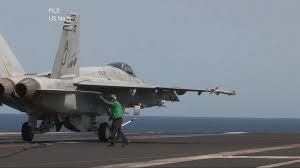fighter: (1, 11, 239, 142)
